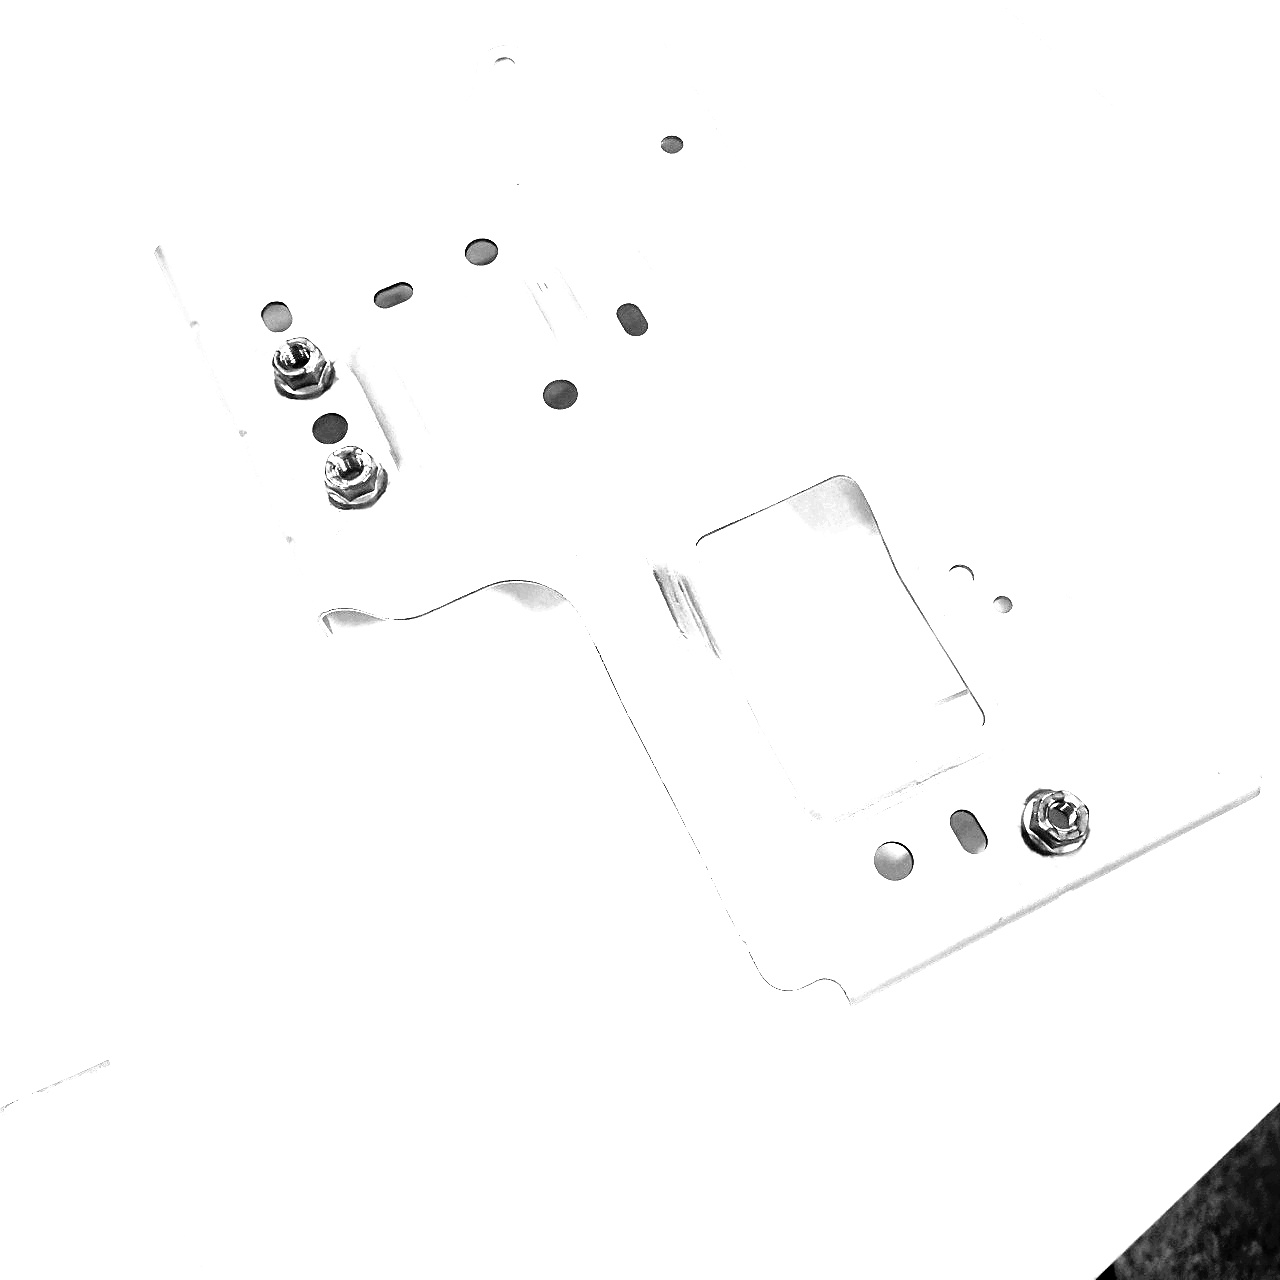dog: (1016, 782, 1096, 860), (316, 442, 392, 515), (268, 334, 340, 404)
